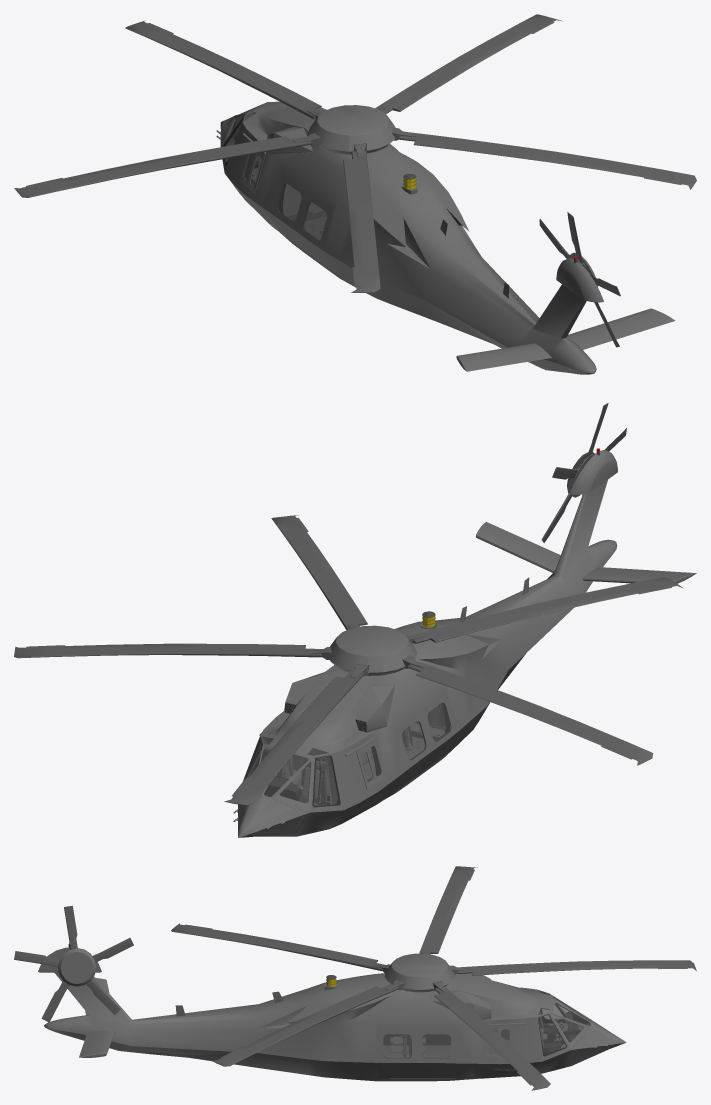
3 views of the same model, one above another, from view 1: azimuth 30°, elevation 25°; view 2: azimuth 150°, elevation 25°; view 3: azimuth 270°, elevation 25° (orthographic). The views are drawn at different scales.
Parts seen in each view (by area): view 1: Geom3D (×10), Geom3D_; view 2: Geom3D (×13), Geom3D_; view 3: Geom3D (×15), Geom3D_.
Boxes of the visible parts, x1=… form: Geom3D (×10): x1=14, y1=14, x2=696, y2=374; Geom3D_: x1=308, y1=105, x2=389, y2=154; Geom3D (×13): x1=14, y1=403, x2=696, y2=837; Geom3D_: x1=330, y1=625, x2=417, y2=675; Geom3D (×15): x1=14, y1=866, x2=696, y2=1090; Geom3D_: x1=385, y1=953, x2=454, y2=992.
Bounding box in the file's own units: 37.68 × 12.26 × 48.53.
14 materials, 1 textured.
